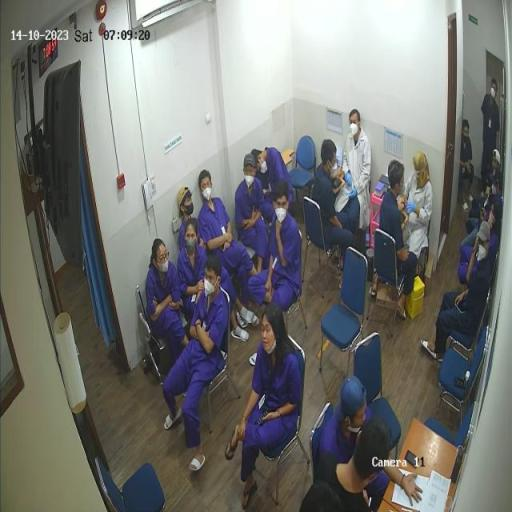person: (226, 304, 302, 510), (163, 257, 230, 472), (321, 376, 424, 507), (179, 188, 256, 343), (249, 183, 302, 367), (423, 223, 492, 362), (300, 418, 393, 512), (199, 171, 260, 309), (372, 161, 420, 320), (313, 139, 354, 290), (336, 111, 373, 259), (147, 241, 190, 364), (235, 155, 269, 274), (404, 153, 434, 279), (459, 201, 503, 286), (461, 168, 503, 256), (252, 148, 294, 227), (178, 219, 207, 318), (482, 79, 501, 198), (470, 150, 502, 219), (460, 121, 475, 214)
